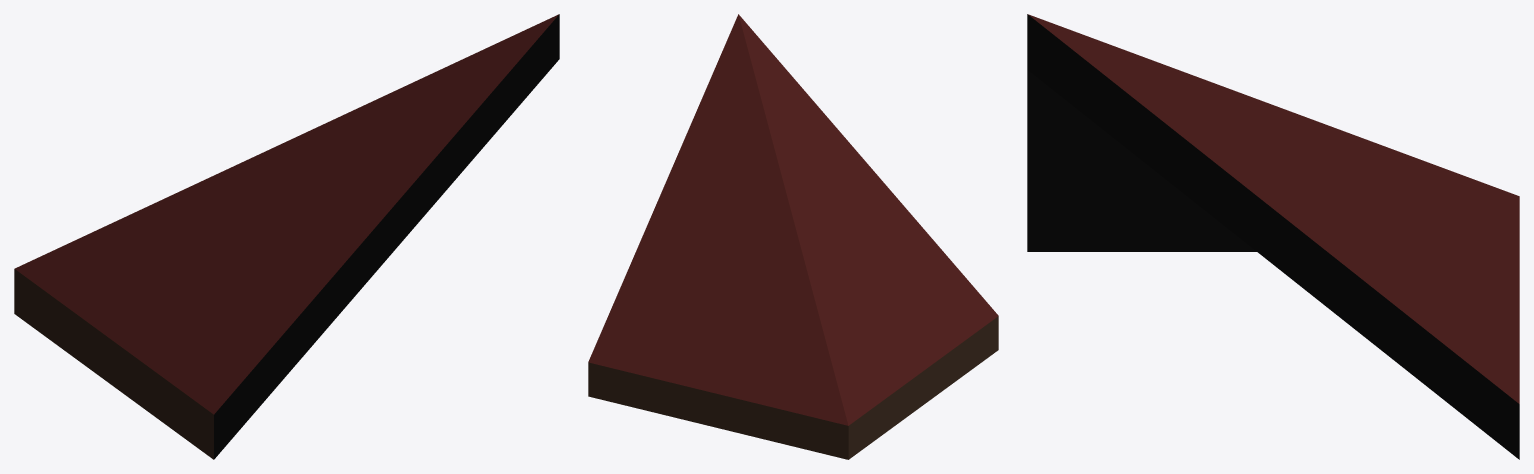
The picture shows the model from 3 angles, left to right: view 1: azimuth 30°, elevation 25°; view 2: azimuth 150°, elevation 25°; view 3: azimuth 270°, elevation 25°; orthographic projection. The views are drawn at different scales.
Visible parts, largest first — view 1: Cube.001; view 2: Cube.001; view 3: Cube.001.
Boxes of the visible parts, <box> form: Cube.001: <box>14,14,559,459</box>; Cube.001: <box>588,14,998,459</box>; Cube.001: <box>1027,14,1519,459</box>.
Bounding box in the file's own units: 200 × 200 × 200.
